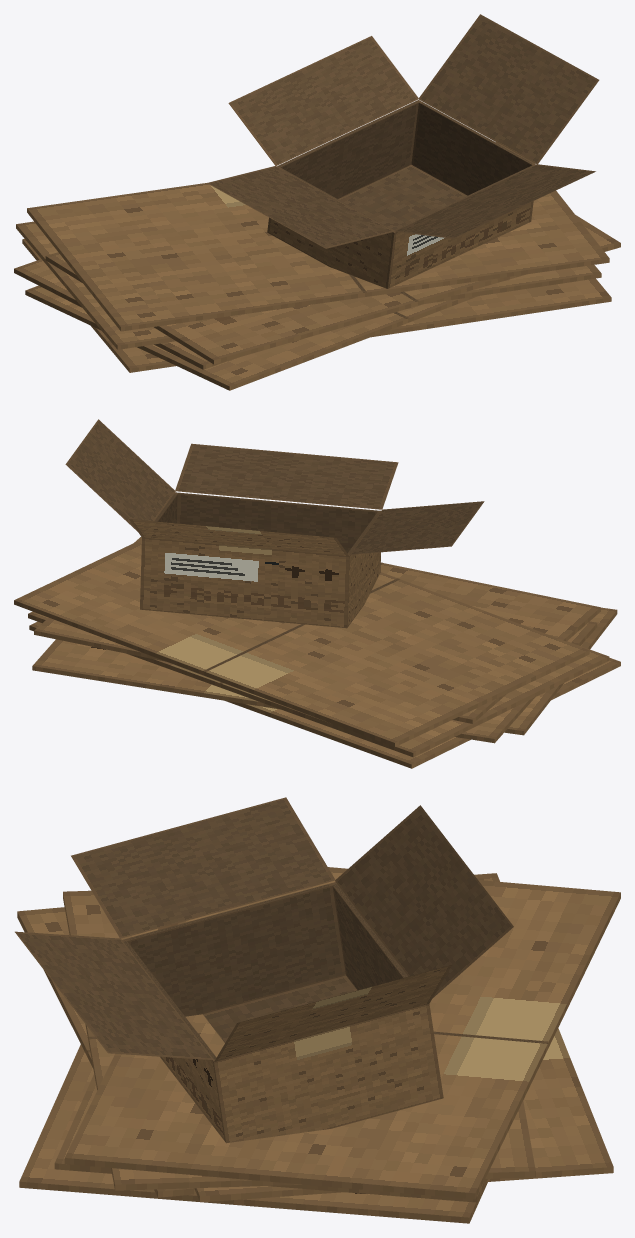
File: flattened_boxes.glb
3 views of the same model, one above another, from view 1: azimuth 30°, elevation 25°; view 2: azimuth 150°, elevation 25°; view 3: azimuth 270°, elevation 25° (orthographic). The views are drawn at different scales.
Parts seen in each view (by area): view 1: FlattenedBoxes; view 2: FlattenedBoxes; view 3: FlattenedBoxes.
Boxes of the visible parts, left/top/right/bottom form: FlattenedBoxes: left=14, top=14, right=620, bottom=390; FlattenedBoxes: left=14, top=419, right=620, bottom=768; FlattenedBoxes: left=15, top=797, right=620, bottom=1223.
Bounding box in the file's own units: 1.22 × 0.3936 × 0.902.
2 materials, 2 textured.
